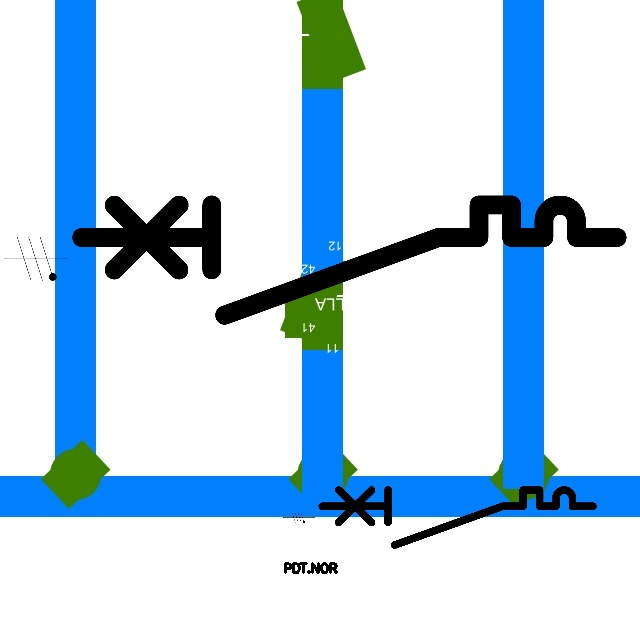interruptor_termomagnetico: (67, 191, 630, 329), (315, 483, 599, 552)
